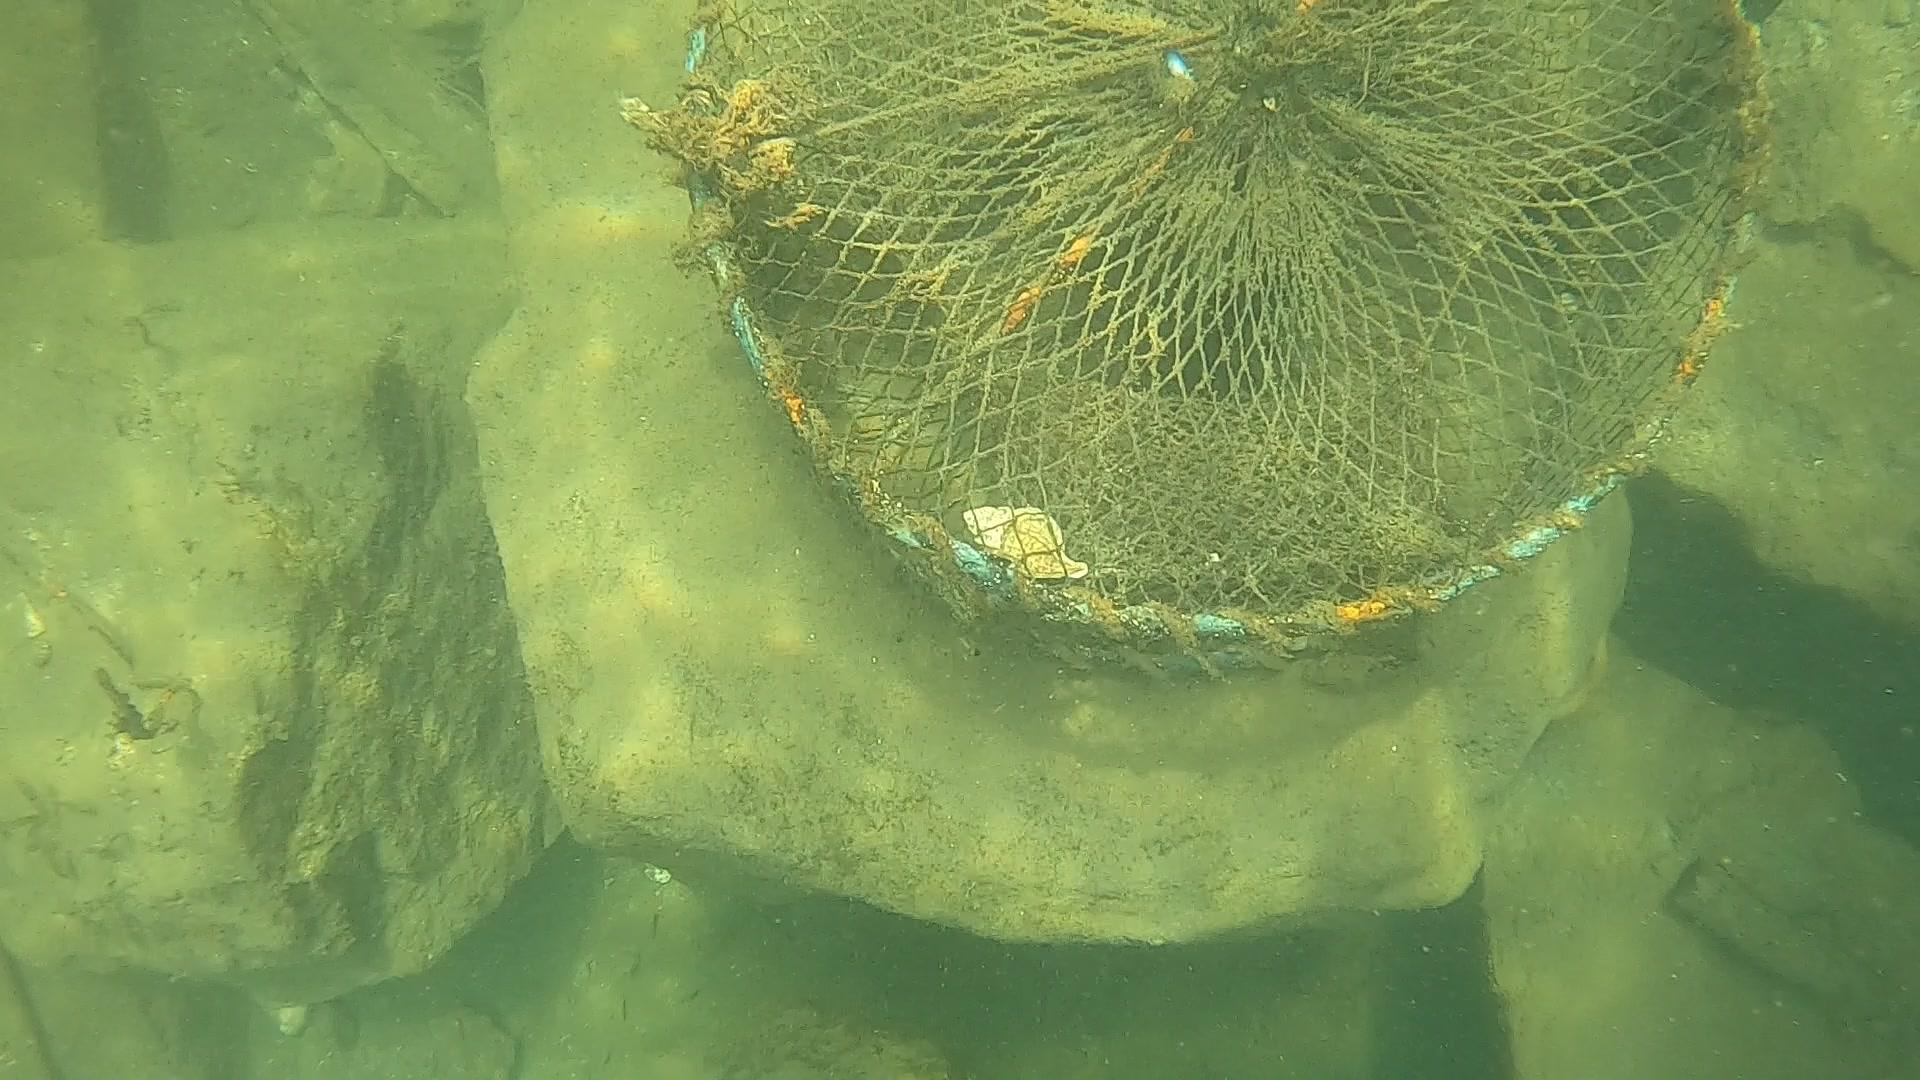circular fish trap: (679, 0, 1767, 678)
